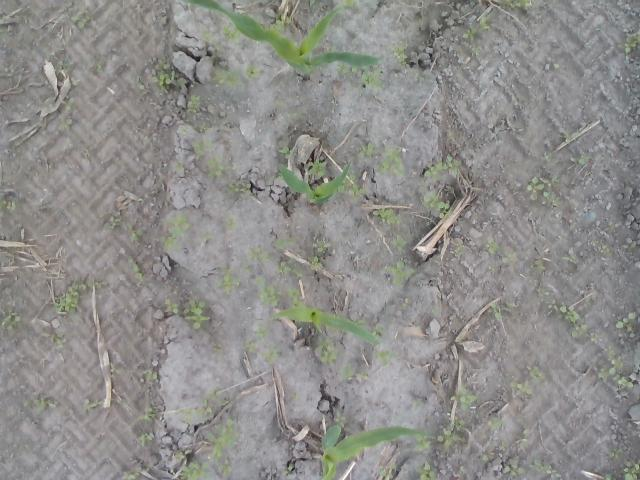Maize: (174, 0, 380, 82), (319, 420, 426, 480), (270, 306, 380, 344), (278, 160, 352, 208)
Weeds: (354, 140, 409, 179), (54, 278, 103, 320), (176, 386, 227, 425), (208, 417, 240, 478), (542, 298, 588, 336), (334, 61, 384, 95), (208, 154, 250, 194), (158, 209, 192, 253), (416, 181, 452, 219), (435, 414, 468, 450), (526, 174, 562, 207), (154, 57, 184, 94), (384, 255, 416, 288), (510, 367, 544, 398), (252, 271, 282, 306), (422, 152, 462, 178), (190, 120, 215, 160), (592, 365, 634, 388), (448, 384, 481, 411), (181, 297, 208, 330), (527, 458, 563, 479), (213, 268, 242, 294), (19, 396, 56, 416), (384, 38, 410, 66), (212, 66, 243, 89), (614, 310, 640, 337), (174, 460, 209, 480), (307, 238, 328, 271), (264, 12, 294, 34), (202, 30, 223, 60), (319, 334, 338, 367), (0, 308, 26, 332), (278, 256, 304, 279), (617, 31, 640, 55), (372, 206, 400, 224), (374, 348, 399, 368), (494, 0, 538, 11), (70, 10, 94, 30), (128, 255, 145, 282), (606, 344, 624, 369), (246, 245, 271, 263), (488, 302, 513, 320), (186, 94, 208, 114), (342, 366, 369, 382), (591, 239, 616, 256), (308, 158, 330, 177), (377, 462, 400, 480), (415, 463, 439, 480), (220, 24, 242, 42), (502, 462, 528, 477), (263, 344, 282, 364), (286, 288, 305, 308), (134, 431, 156, 447), (224, 208, 238, 233), (275, 238, 300, 252), (139, 406, 158, 424), (621, 462, 640, 480), (388, 234, 409, 250), (162, 298, 180, 316), (463, 23, 480, 41), (49, 330, 66, 348), (127, 223, 145, 240), (244, 64, 263, 80), (486, 416, 506, 431), (61, 95, 78, 112), (351, 184, 369, 200), (622, 237, 638, 255), (104, 214, 122, 230), (275, 143, 294, 158), (302, 0, 322, 14), (242, 336, 258, 353), (478, 14, 493, 32), (0, 24, 15, 42), (450, 237, 464, 256), (587, 330, 609, 342), (120, 467, 140, 480), (415, 435, 433, 449), (254, 324, 268, 342), (501, 248, 516, 264), (142, 368, 159, 382), (80, 399, 98, 412), (274, 94, 288, 110), (529, 258, 545, 272), (0, 197, 17, 210), (55, 118, 73, 130), (608, 448, 626, 460), (484, 240, 497, 256), (338, 0, 364, 8), (200, 230, 218, 241), (335, 412, 347, 428), (575, 154, 592, 165), (60, 60, 74, 73), (480, 449, 493, 462), (372, 323, 384, 337), (282, 463, 294, 477), (519, 430, 528, 448), (173, 161, 186, 173), (287, 110, 306, 118), (351, 318, 366, 328), (534, 287, 550, 296), (560, 255, 576, 264), (412, 398, 424, 410), (212, 342, 224, 354), (173, 449, 185, 461), (602, 471, 617, 480), (542, 150, 554, 161), (238, 40, 254, 48), (46, 96, 56, 108), (242, 263, 254, 273), (190, 286, 204, 294), (136, 79, 144, 93), (550, 62, 560, 73), (415, 70, 425, 81), (561, 130, 572, 140), (470, 47, 480, 57), (110, 367, 122, 375), (488, 264, 499, 272), (291, 391, 300, 400), (398, 303, 408, 311), (70, 78, 79, 86), (96, 64, 105, 72), (302, 14, 308, 24), (462, 320, 468, 325), (474, 412, 481, 416)
